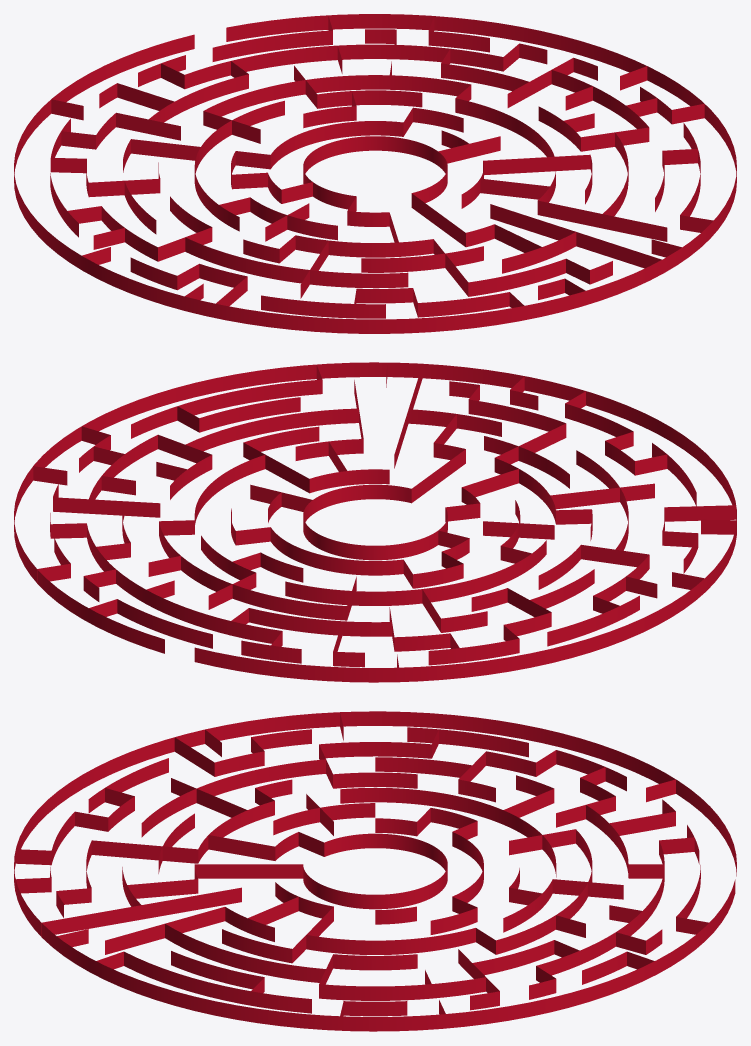
Rendered from maze_example.gltf.
The picture shows the model from 3 angles, top to bottom: view 1: azimuth 30°, elevation 25°; view 2: azimuth 150°, elevation 25°; view 3: azimuth 270°, elevation 25°; orthographic projection.
Visible parts, largest first — view 1: Curve.030; view 2: Curve.030; view 3: Curve.030.
Boxes of the visible parts, box(x1,y1,x2,y2) form: Curve.030: box(14, 14, 736, 333); Curve.030: box(14, 362, 736, 682); Curve.030: box(14, 711, 736, 1031).
Bounding box in the file's own units: 0.0903 × 0.002 × 0.0903.
